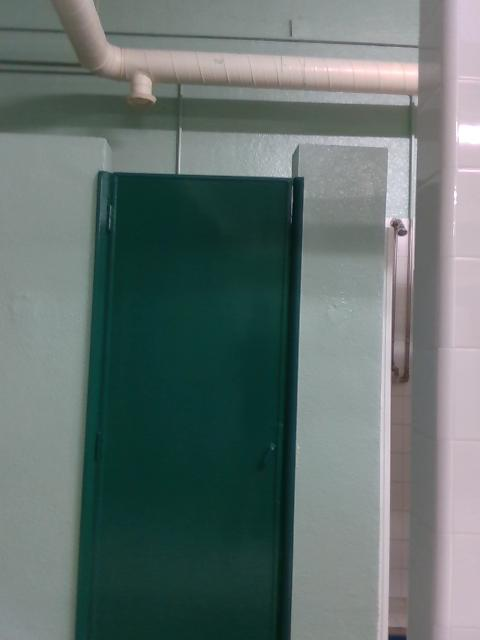door: (92, 175, 293, 640)
